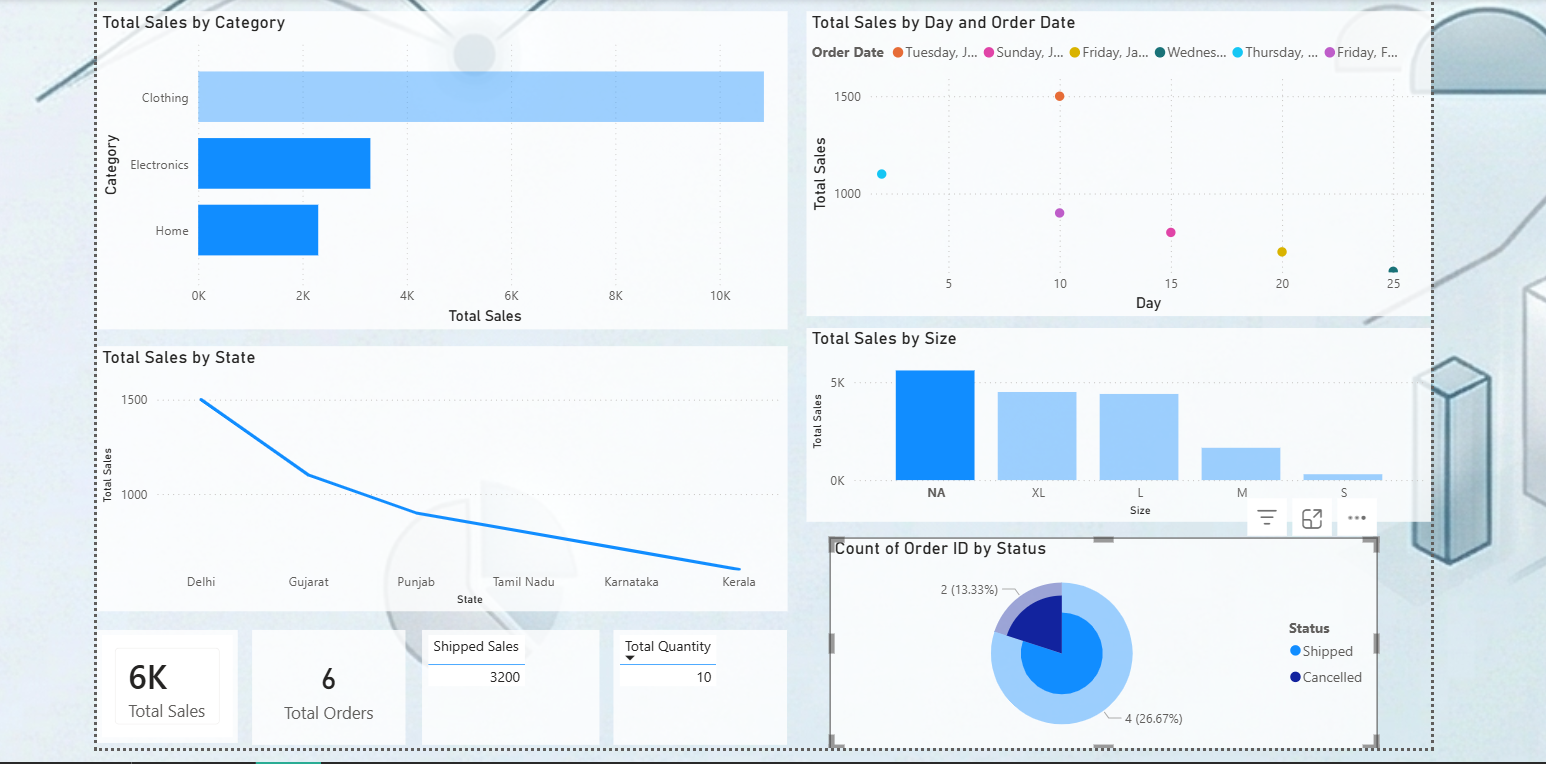

The page's visual inventory and layout, read from the dashboard file:
{"tool":"powerbi","page":{"name":"Page 1","canvas":[1280,720],"ordinal":0},"visuals":[{"type":"cardVisual","fields":{"Data":["Amazon Sale Report.Total Sales"]},"box":[0,606.8,135,108.7],"z":0},{"type":"card","fields":{"Values":["Amazon Sale Report.Total Orders"]},"box":[149.1,606.8,147.3,110.5],"z":1000},{"type":"tableEx","fields":{"Values":["Amazon Sale Report.Shipped Sales"]},"box":[312.2,606.8,170.1,110.5],"z":2000},{"type":"tableEx","fields":{"Values":["Amazon Sale Report.Total Quantity"]},"box":[496.3,606.8,166.6,110.5],"z":3000},{"type":"clusteredBarChart","fields":{"Y":["Amazon Sale Report.Total Sales"],"Category":["Amazon Sale Report.Category"]},"box":[0,12.3,663,305.2],"z":4000},{"type":"lineChart","fields":{"Category":["Amazon Sale Report.Order Date.Variation.Date Hierarchy.Day"],"Y":["Amazon Sale Report.Total Sales"],"Series":["Amazon Sale Report.Order Date"]},"box":[680.5,12.3,599.8,292.9],"z":5000},{"type":"lineChart","fields":{"Category":["Amazon Sale Report.State"],"Y":["Amazon Sale Report.Total Sales"]},"box":[0,335,663,254.3],"z":6000},{"type":"clusteredColumnChart","fields":{"Category":["Amazon Sale Report.Size"],"Y":["Amazon Sale Report.Total Sales"]},"box":[680.5,317.5,599.8,185.9],"z":7000},{"type":"pieChart","fields":{"Category":["Amazon Sale Report.Status"],"Y":["CountNonNull(Amazon Sale Report.Order ID)"]},"box":[703.3,517.4,526.2,203.4],"z":8000}]}

Visuals, with their boxes in screenshot pixels (x1, y1, x2, y2):
cardVisual - Amazon Sale Report.Total Sales: (x1=89, y1=636, x2=230, y2=750)
card - Amazon Sale Report.Total Orders: (x1=245, y1=636, x2=399, y2=752)
tableEx - Amazon Sale Report.Shipped Sales: (x1=416, y1=636, x2=594, y2=752)
tableEx - Amazon Sale Report.Total Quantity: (x1=609, y1=636, x2=783, y2=752)
clusteredBarChart - Amazon Sale Report.Total Sales x Amazon Sale Report.Category: (x1=89, y1=13, x2=783, y2=333)
lineChart - Amazon Sale Report.Order Date.Variation.Date Hierarchy.Day x Amazon Sale Report.Total Sales: (x1=802, y1=13, x2=1430, y2=320)
lineChart - Amazon Sale Report.State x Amazon Sale Report.Total Sales: (x1=89, y1=351, x2=783, y2=617)
clusteredColumnChart - Amazon Sale Report.Size x Amazon Sale Report.Total Sales: (x1=802, y1=333, x2=1430, y2=527)
pieChart - Amazon Sale Report.Status x CountNonNull(Amazon Sale Report.Order ID): (x1=825, y1=542, x2=1377, y2=755)
